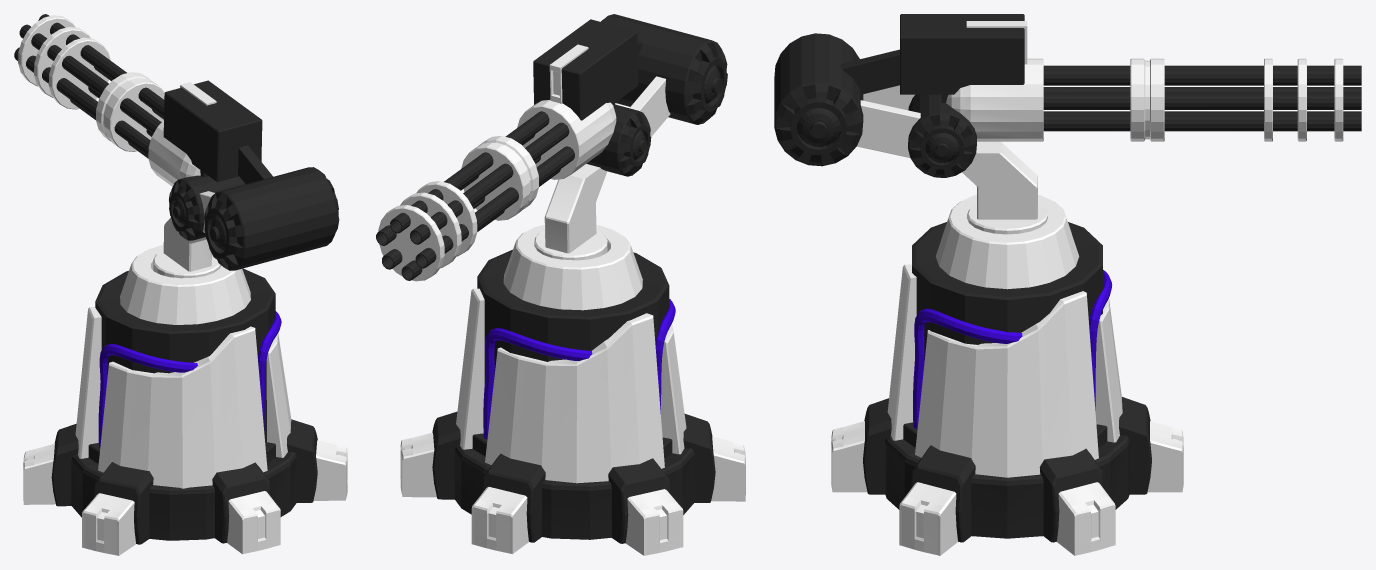
Rendered from SM_Gatling.fbx.
The picture shows the model from 3 angles, left to right: view 1: azimuth 30°, elevation 25°; view 2: azimuth 150°, elevation 25°; view 3: azimuth 270°, elevation 25°; orthographic projection. The views are drawn at different scales.
Parts seen in each view (by area): view 1: SM_Gatling_Base, SM_Gatling_Canon; view 2: SM_Gatling_Base, SM_Gatling_Canon; view 3: SM_Gatling_Base, SM_Gatling_Canon.
Boxes of the visible parts, <box> form: SM_Gatling_Base: <box>23,245,347,555</box>; SM_Gatling_Canon: <box>14,14,339,278</box>; SM_Gatling_Base: <box>400,224,745,555</box>; SM_Gatling_Canon: <box>376,14,727,281</box>; SM_Gatling_Base: <box>831,195,1183,555</box>; SM_Gatling_Canon: <box>774,14,1361,234</box>.
Bounding box in the file's own units: 1.8 × 2.61 × 3.
